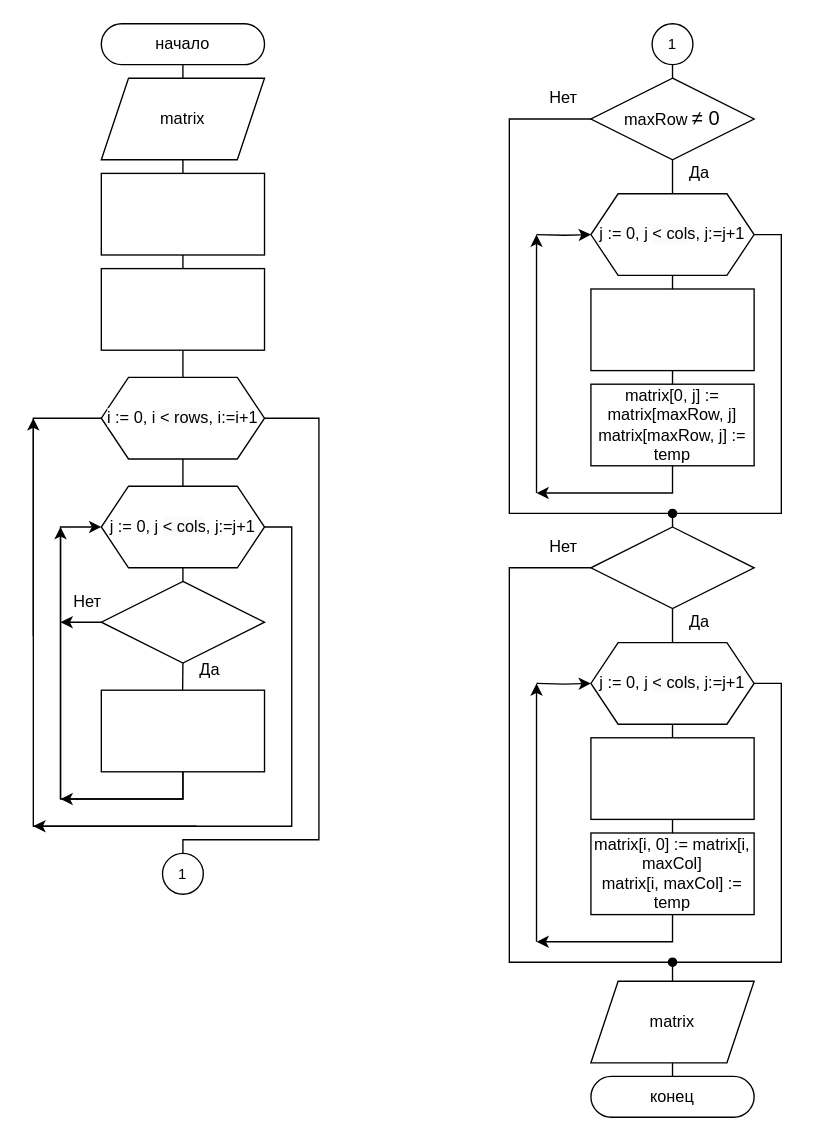
Some shapes in this 816 by 1141 pixel diagram are drawn without their labels. Each missing label, with the centre of its shape:
matrix[i,j] > maxValue: the point at 182,621
maxCol ≠ 0: the point at 672,567
maxRow := 0 maxCol := 0 maxValue := matrix[0,0]: the point at 182,308
maxRow := i maxCol := j maxValue := matrix[i,j]: the point at 182,730
rows := 4 cols := 5: the point at 182,213
temp := matrix[0, j]: the point at 672,329
temp := matrix[i, 0]: the point at 672,777
